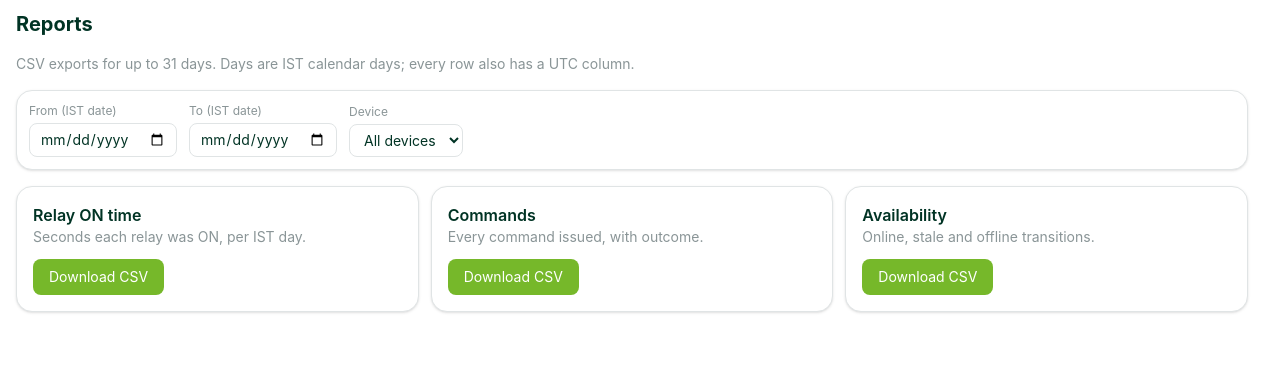
Test: ReportsPage › blocks a download without a valid range and makes no request
Click the button with aria-label "Download Commands CSV" at (513, 277), box [448,259,579,295]
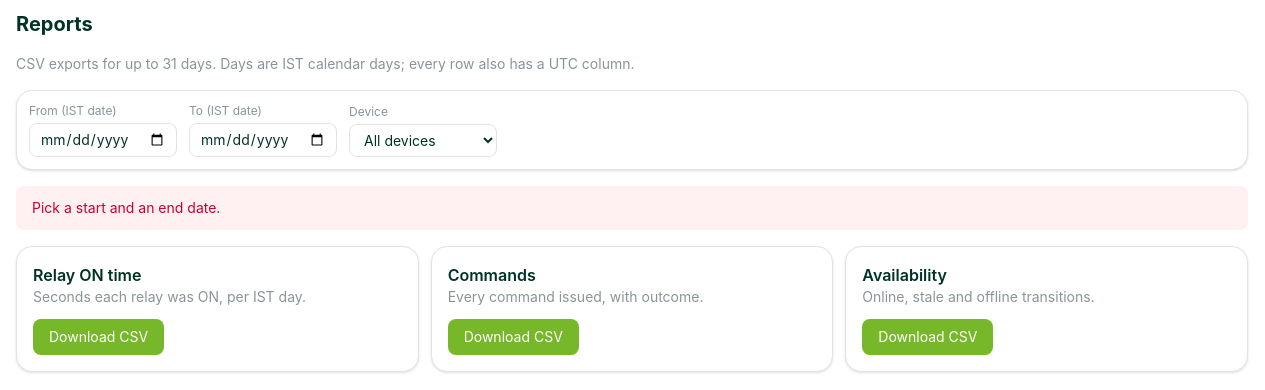
Check: the message reads "Pick a start and an end date.", box [32,199,220,216]
Type "2026-10-01" into the date field labelled "From (IST date)" at (103, 140), box [29,123,177,157]
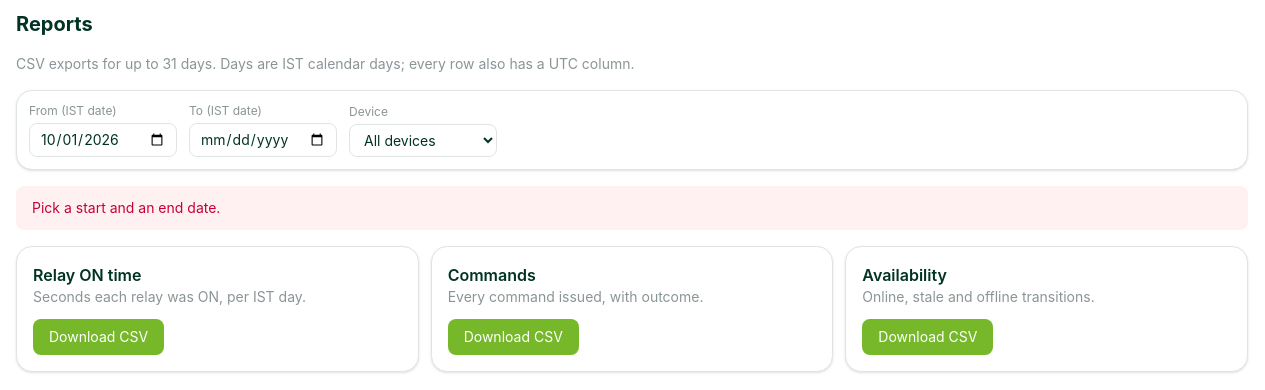
Type "2026-11-15" into the date field labelled "To (IST date)" at (263, 140), box [189,123,337,157]
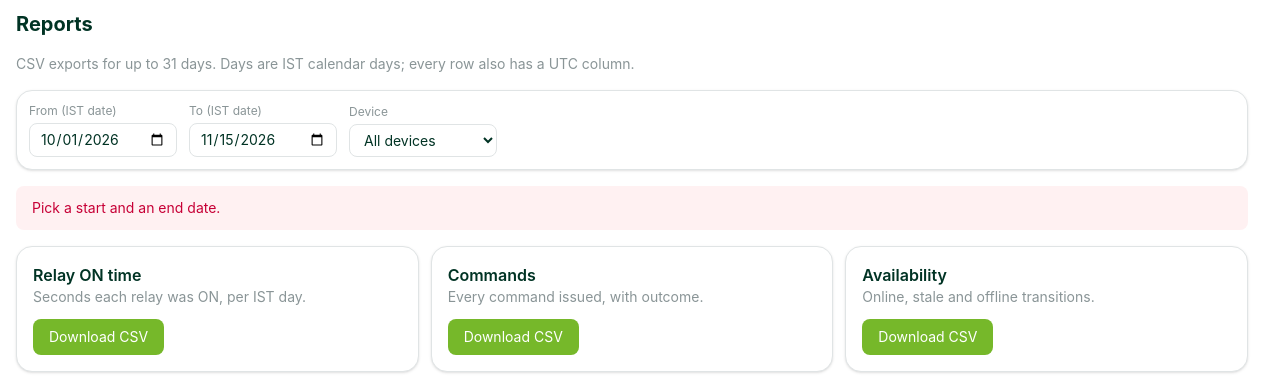
Click the button with aria-label "Download Commands CSV" at (513, 337), box [448,319,579,355]
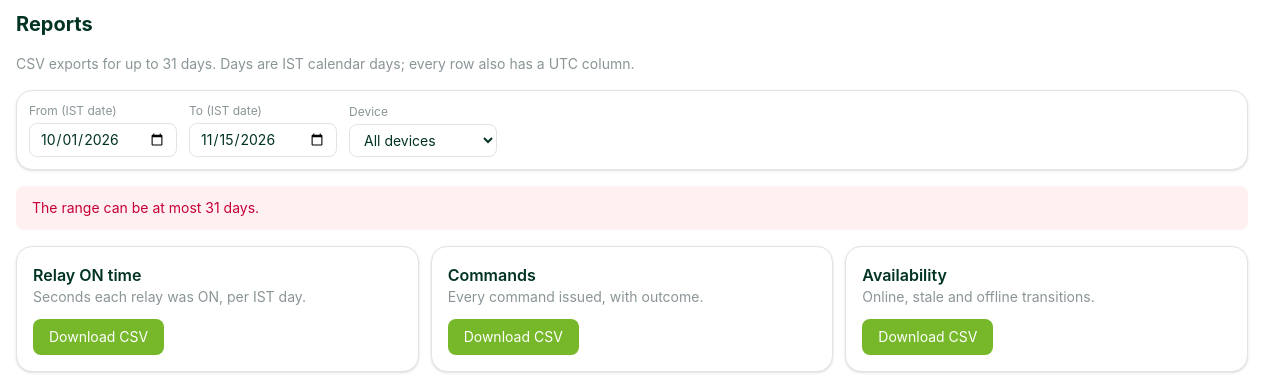
Check: the message shows "at most 31 days", box [32,199,259,216]
